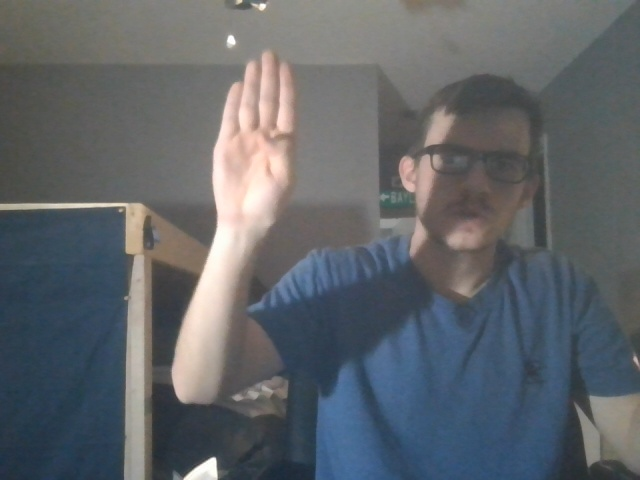B: (205, 43, 323, 235)
